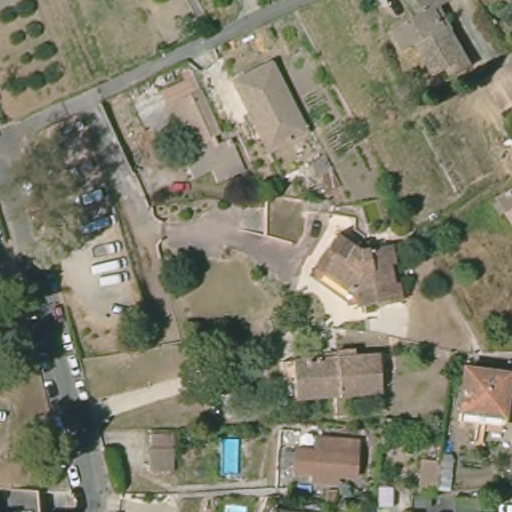pool: (216, 433, 245, 479)
